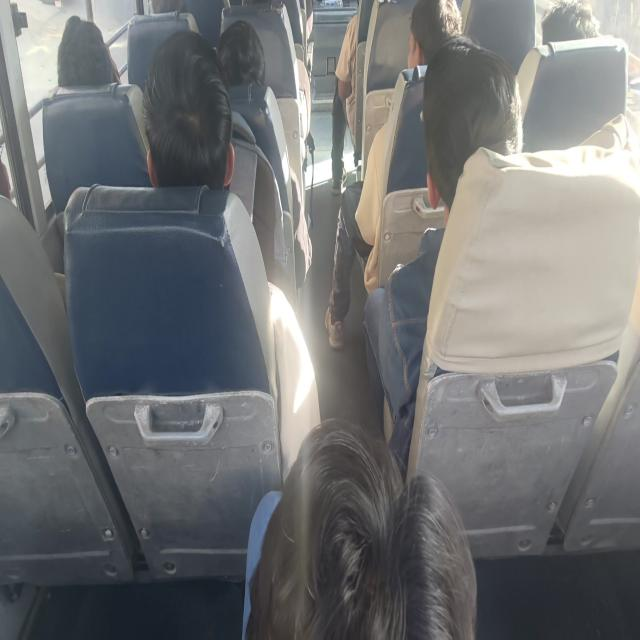person: (362, 34, 524, 474), (241, 416, 478, 638), (325, 0, 463, 350), (142, 28, 236, 190), (540, 0, 640, 83), (330, 12, 358, 195), (56, 15, 121, 87), (407, 0, 463, 68), (217, 19, 265, 87), (540, 0, 600, 44)
